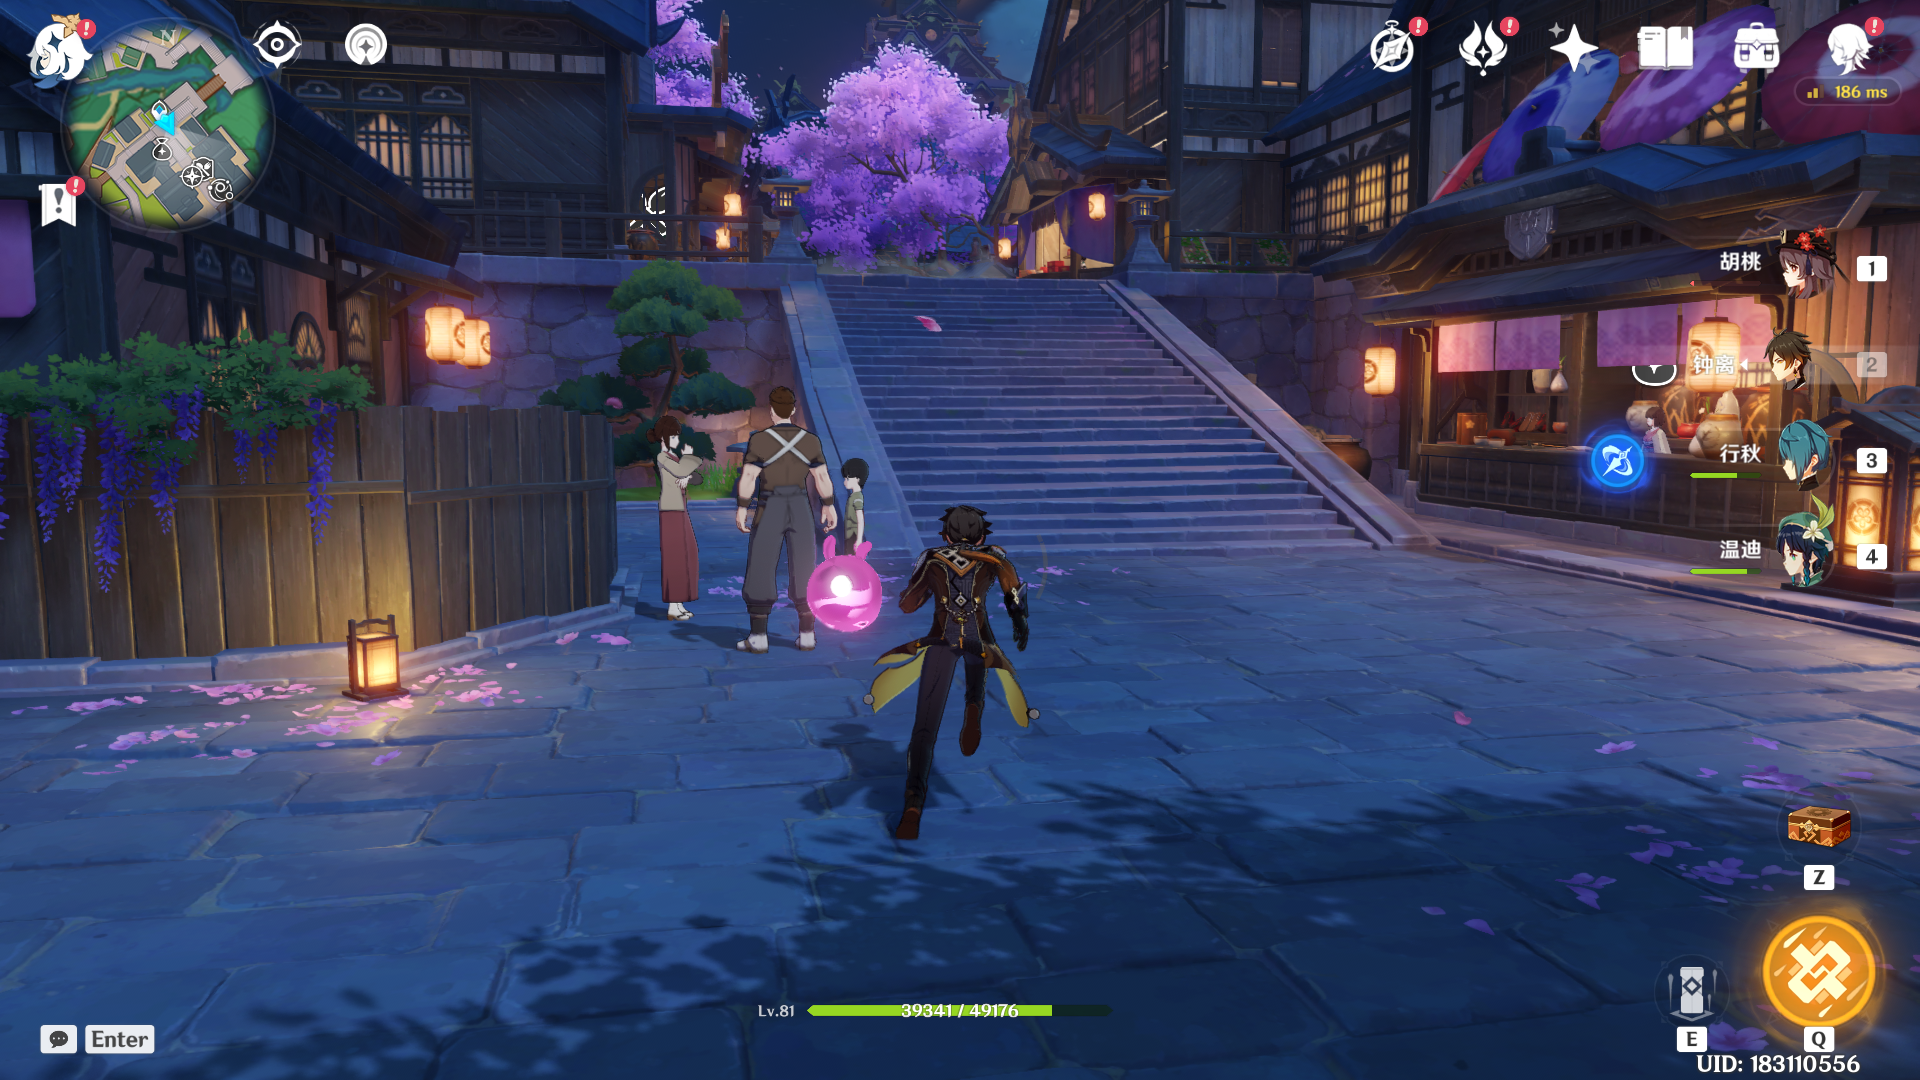character: (852, 477, 1098, 845)
